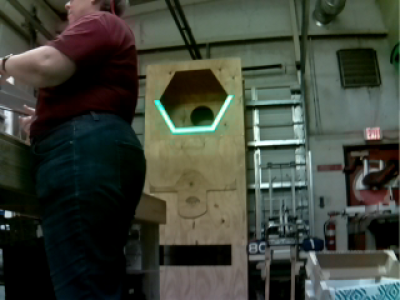target: (153, 94, 233, 134)
